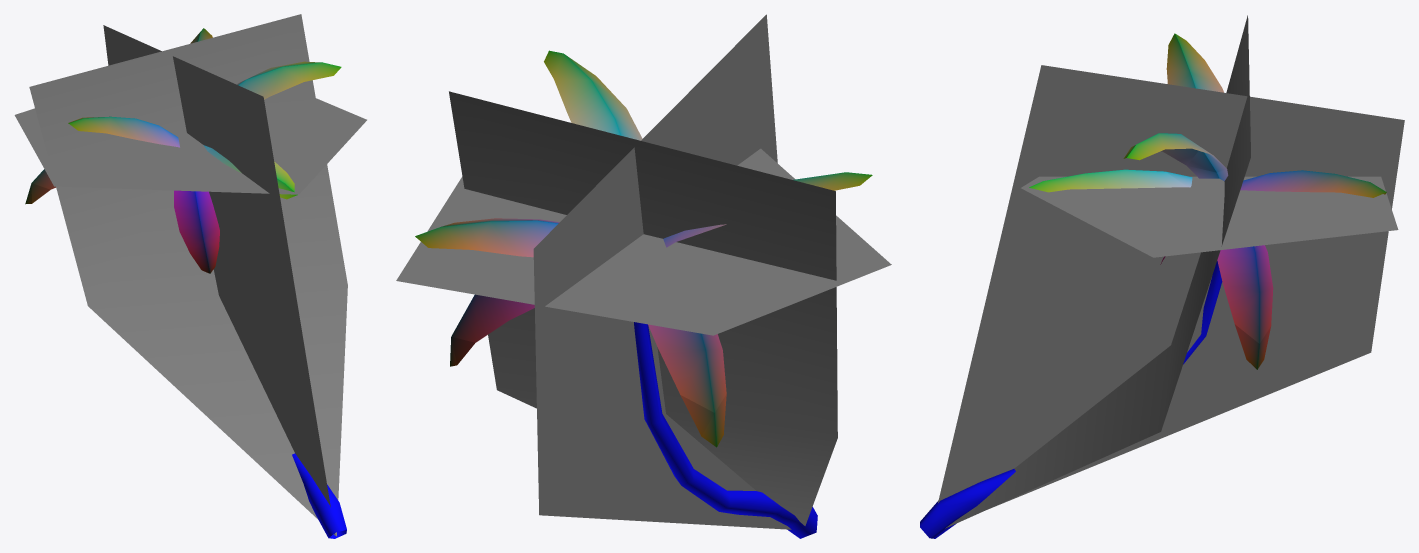
File: Palm_03.fbx
3 renders of one model, left to right at view 1: azimuth 30°, elevation 25°; view 2: azimuth 150°, elevation 25°; view 3: azimuth 270°, elevation 25°, orthographic. The views are drawn at different scales.
Visible parts, largest first — view 1: Palm_03_billboard, Palm_03; view 2: Palm_03_billboard, Palm_03; view 3: Palm_03_billboard, Palm_03.
Boxes of the visible parts, <box> form: Palm_03_billboard: <box>14,14,366,536</box>; Palm_03: <box>25,28,346,538</box>; Palm_03_billboard: <box>396,14,891,529</box>; Palm_03: <box>415,50,872,538</box>; Palm_03_billboard: <box>938,15,1404,528</box>; Palm_03: <box>920,33,1386,538</box>.
Size of the model in its own units: 244 by 318 by 303.
